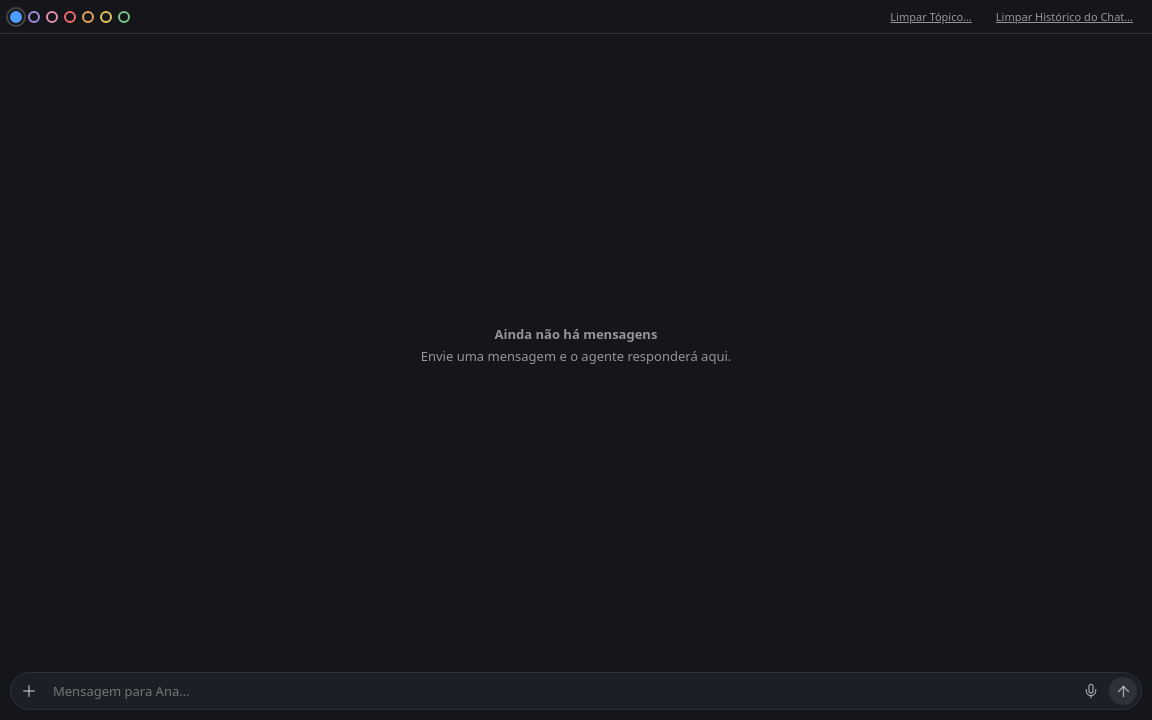
Test: microfone no compositor › sem suporte na plataforma o botão explica por quê
Click the button with class "chat-mic" at [1091, 691], box x1=1077 y1=677 x2=1105 y2=705
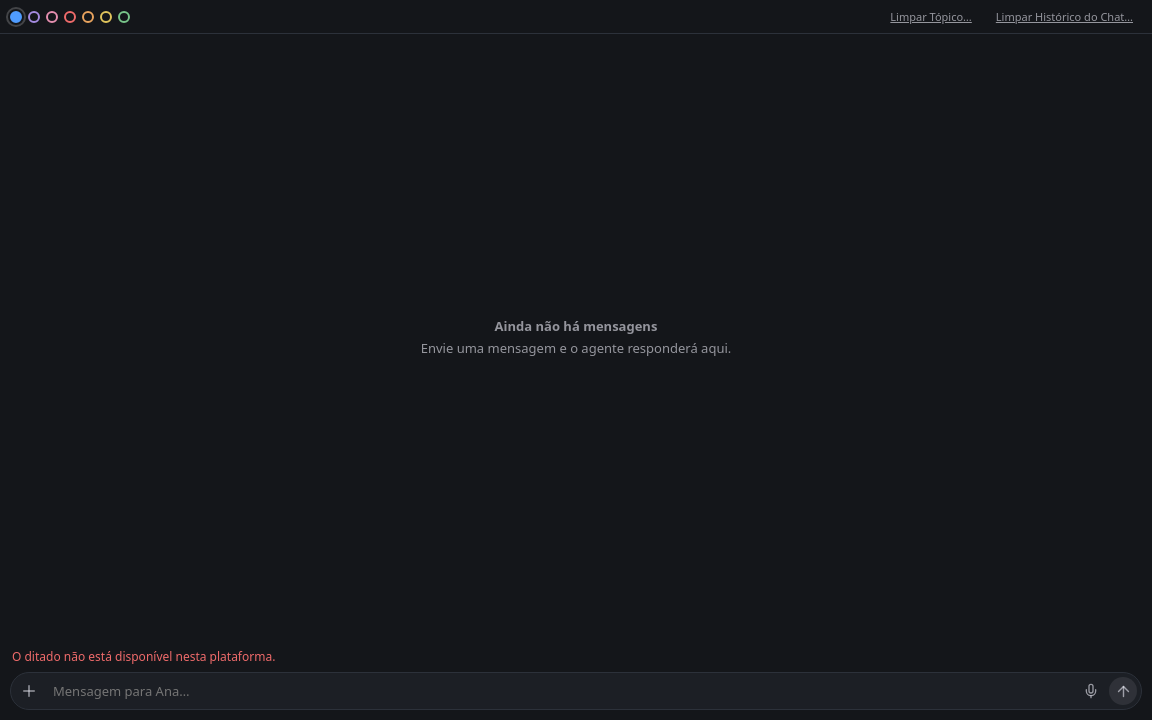
Now the message "O ditado não está disponível nesta plataforma." is shown, box x1=12 y1=648 x2=275 y2=665
